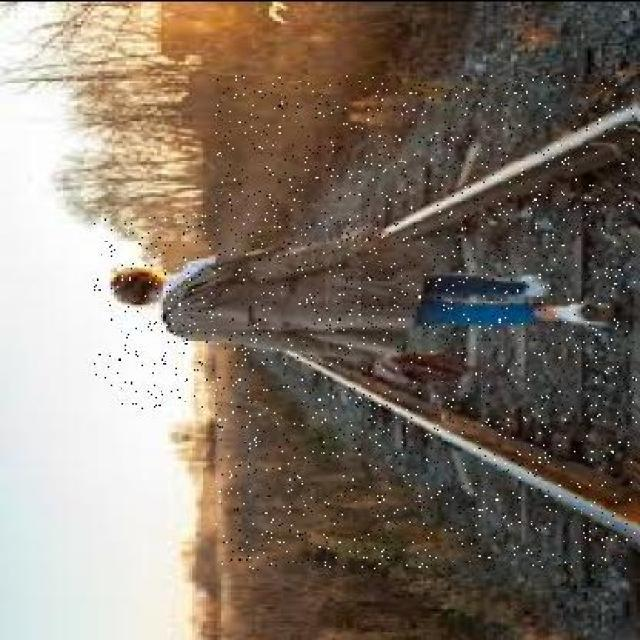danger: (93, 214, 625, 408)
rail: (216, 75, 637, 569)
